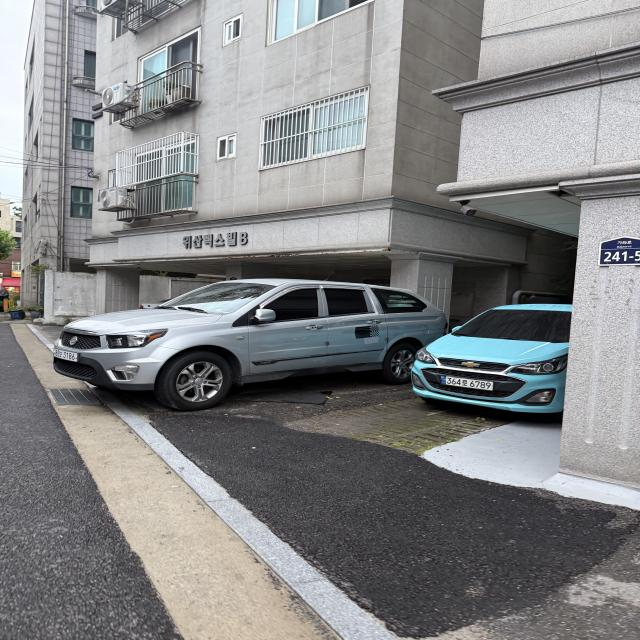car: (51, 264, 455, 414), (390, 278, 602, 434)
